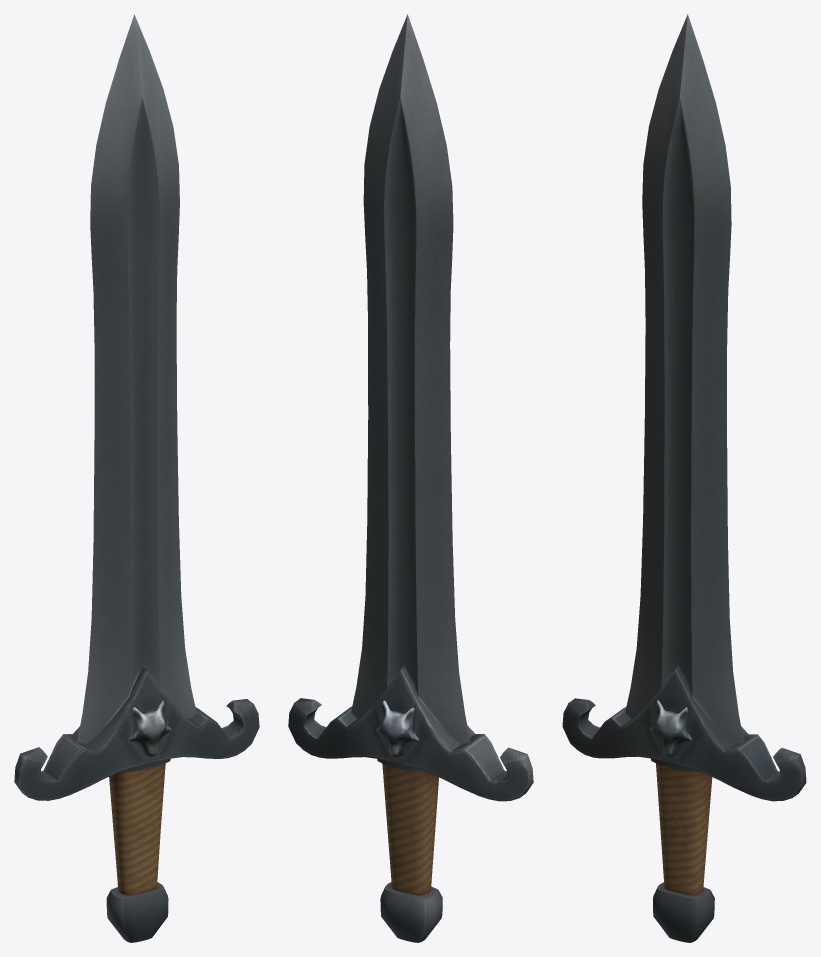
The model's file is GAM0210008.fbx.
3 views of the same model, side by side, from view 1: azimuth 30°, elevation 25°; view 2: azimuth 150°, elevation 25°; view 3: azimuth 330°, elevation 25° (orthographic).
Parts seen in each view (by area): view 1: smGAM0210008; view 2: smGAM0210008; view 3: smGAM0210008.
Part boxes in pixels (<box>): smGAM0210008: <box>14,14,259,942</box>; smGAM0210008: <box>288,14,533,942</box>; smGAM0210008: <box>562,14,806,942</box>.
Bounding box in the file's own units: 27.69 × 101 × 7.39.
1 material, 1 textured.
